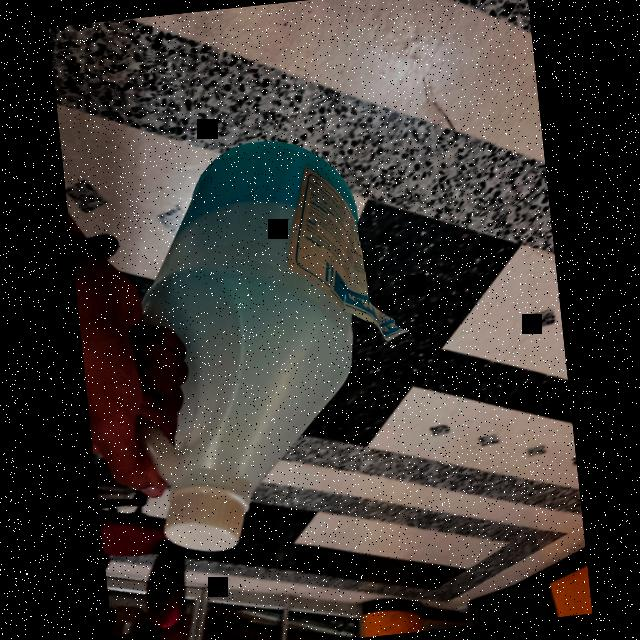chemical_plastic_gallon: (104, 131, 393, 564)
